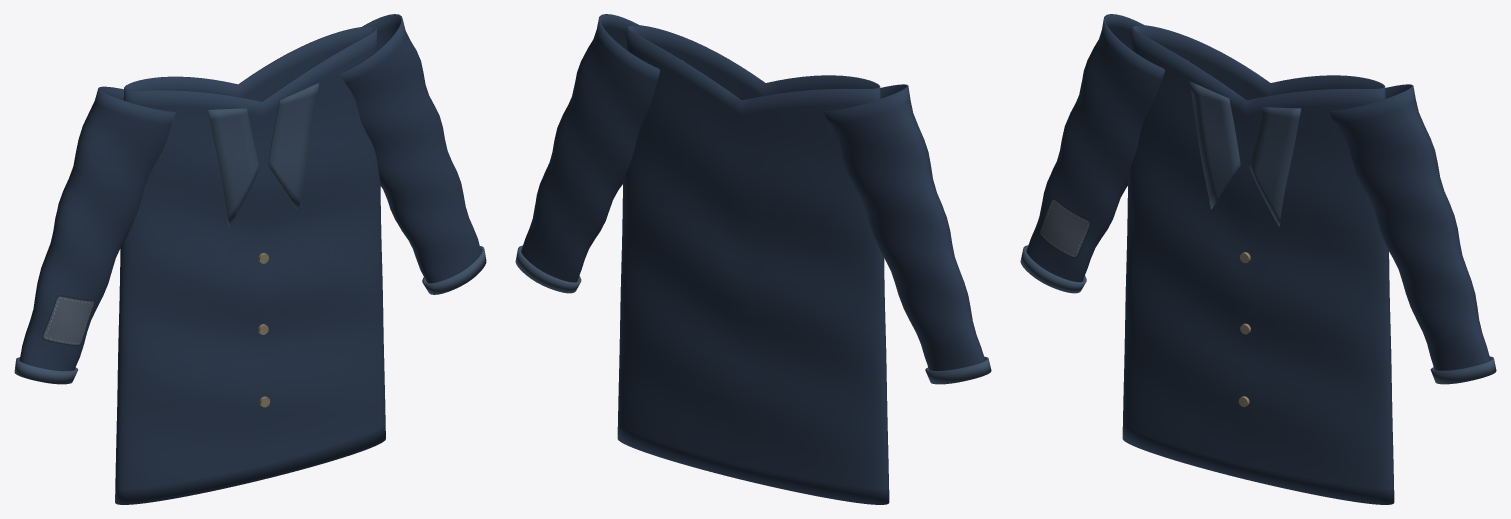
The model's file is original-coat.glb.
3 views of the same model, side by side, from view 1: azimuth 30°, elevation 25°; view 2: azimuth 150°, elevation 25°; view 3: azimuth 330°, elevation 25° (orthographic).
Visible parts, largest first — view 1: Jacket body, Right sleeve, Left sleeve, Right lapel, Left lapel, Right cuff, Left cuff; view 2: Jacket body, Right sleeve, Left sleeve, Right cuff, Left cuff; view 3: Jacket body, Left sleeve, Right sleeve, Left lapel, Right lapel, Left cuff, Right cuff.
Part boxes in pixels (x1,y1,x2,y2): Jacket body: [115, 26, 385, 504]; Right sleeve: [19, 86, 175, 370]; Left sleeve: [323, 14, 481, 283]; Right lapel: [268, 82, 319, 210]; Left lapel: [207, 108, 259, 226]; Right cuff: [422, 246, 486, 294]; Left cuff: [14, 357, 78, 384]; Jacket body: [617, 25, 889, 504]; Right sleeve: [824, 84, 985, 370]; Left sleeve: [521, 14, 684, 282]; Right cuff: [515, 245, 581, 293]; Left cuff: [925, 356, 991, 384]; Jacket body: [1122, 25, 1394, 504]; Left sleeve: [1329, 84, 1490, 370]; Right sleeve: [1026, 14, 1189, 281]; Left lapel: [1189, 81, 1240, 209]; Right lapel: [1249, 106, 1301, 226]; Left cuff: [1020, 245, 1086, 293]; Right cuff: [1430, 356, 1496, 384].
Bounding box in the file's own units: 0.6207 × 0.5266 × 0.0657.
Materials: 6 (2 with a texture image).
